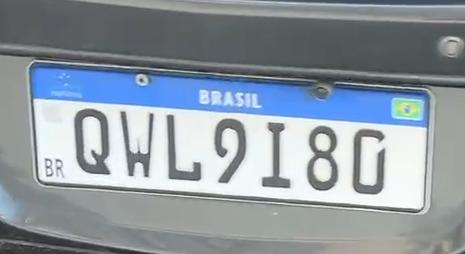Placa_mercosul_carro: (29, 62, 433, 213)
